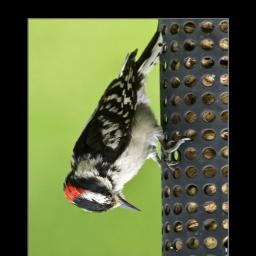Woodpecker: (63, 30, 187, 217)
